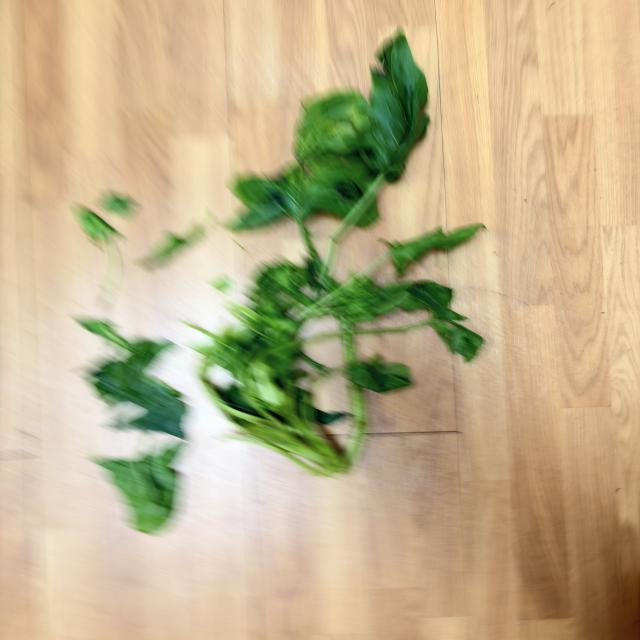rotten spinach: (61, 25, 482, 518)
